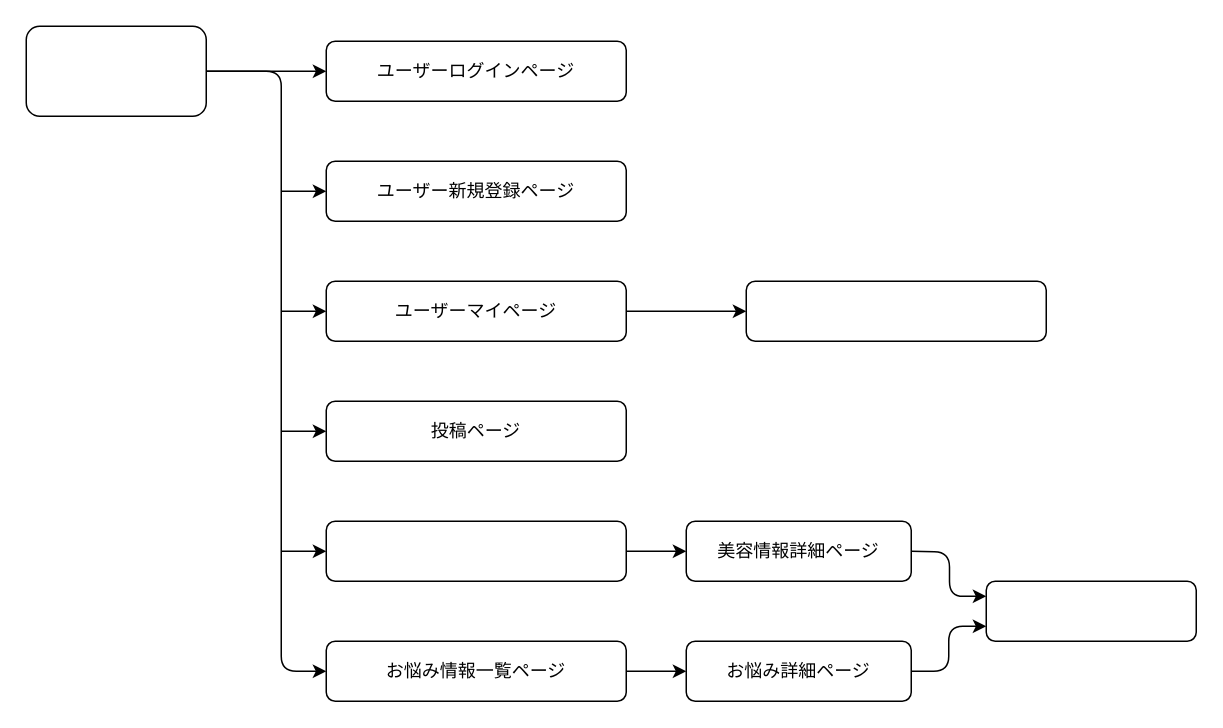
This 1223x728 diagram has some shape labels left out. The centre of each missing label's shape, as x and y in pixels:
"トップページ" goes at (x=115, y=70).
"プロフィール 編集ページ" goes at (x=895, y=310).
"編集ページ" goes at (x=1090, y=610).
"美容情報一覧ページ" goes at (x=475, y=550).
